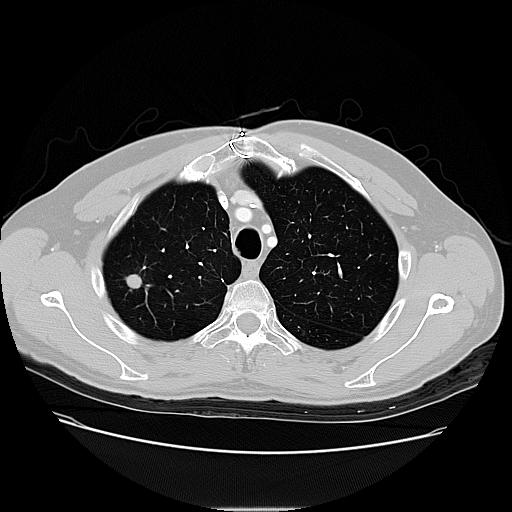nodule: (124, 271, 145, 292)
